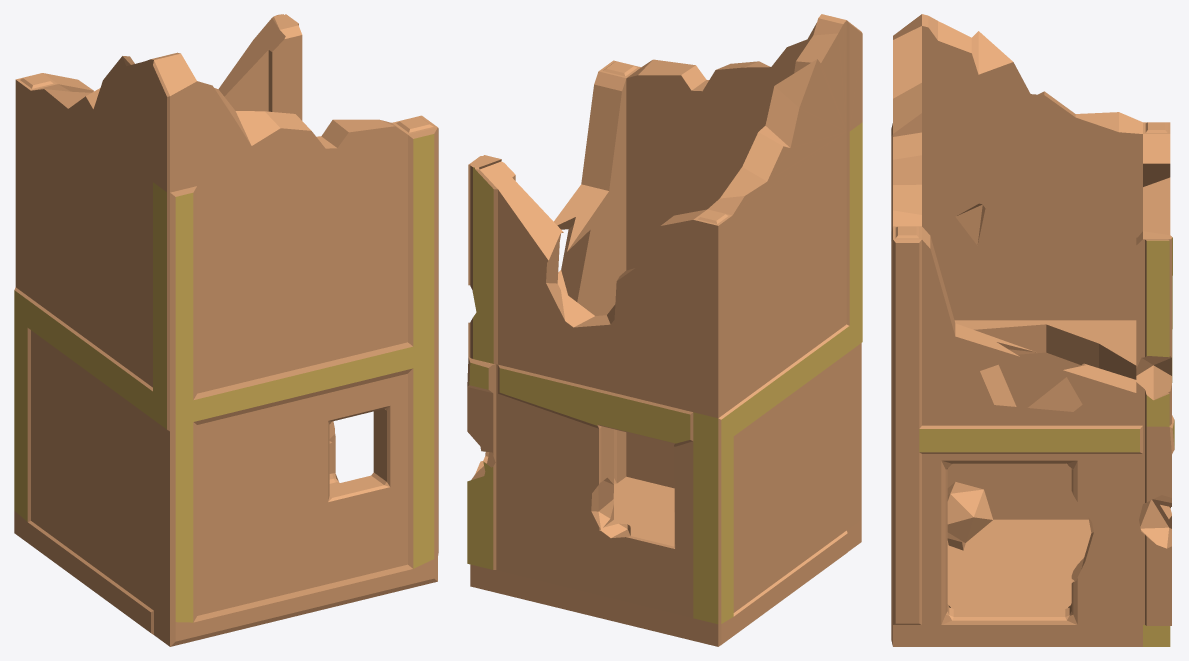
File: ruins.fbx
3 renders of one model, left to right at view 1: azimuth 30°, elevation 25°; view 2: azimuth 150°, elevation 25°; view 3: azimuth 270°, elevation 25°, orthographic. The views are drawn at different scales.
Parts seen in each view (by area): view 1: Cube.001; view 2: Cube.001; view 3: Cube.001.
Boxes of the visible parts, bbox=[...] form: Cube.001: bbox=[14, 14, 438, 646]; Cube.001: bbox=[467, 14, 862, 646]; Cube.001: bbox=[891, 14, 1174, 646].
Size of the model in its own units: 380 by 768 by 382.
